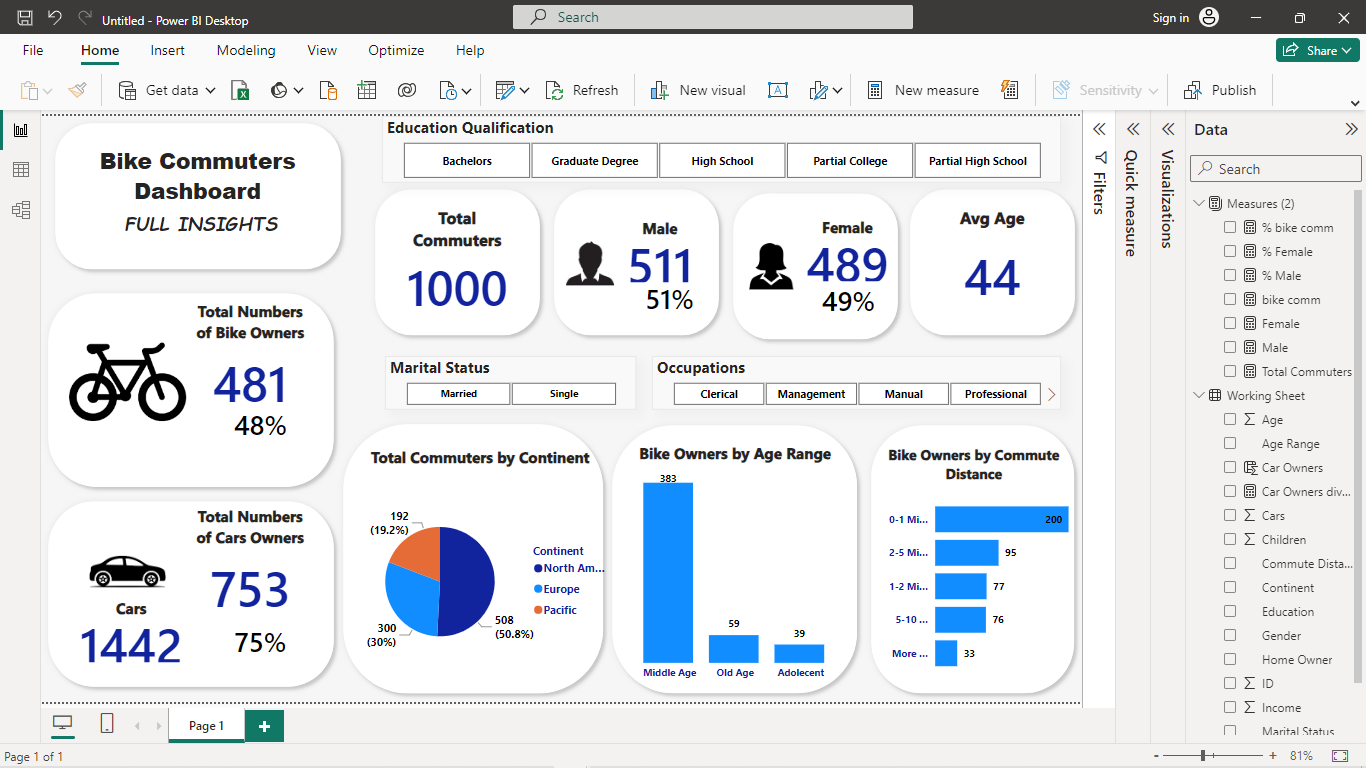

This screenshot's page, from the dashboard's own definition file:
{"tool":"powerbi","page":{"name":"Page 1","canvas":[1280,720],"ordinal":0},"visuals":[{"type":"shape","box":[8.6,0,369,197.4],"z":0},{"type":"shape","box":[401.9,81.5,220.2,197.4],"z":1000},{"type":"card","title":"Total  Commuters","fields":{"Values":["Measures (2).Total Commuters"]},"box":[426.2,110.1,170.2,140.2],"z":2000},{"type":"shape","box":[622.1,81.5,220.2,197.4],"z":3000},{"type":"card","title":"Male","fields":{"Values":["Measures (2).Male"]},"box":[709.4,125.9,103,84.4],"z":4000},{"type":"card","title":"Male","fields":{"Values":["Measures (2).% Male"]},"box":[732.2,181.6,80.1,84.4],"z":5000},{"type":"image","box":[640.7,135.9,68.6,91.5],"z":6000},{"type":"shape","box":[842.4,85.8,220.2,197.4],"z":7000},{"type":"card","title":"Male","fields":{"Values":["Measures (2).% Female"]},"box":[952.5,184.5,80.1,84.4],"z":8000},{"type":"card","title":"Female","fields":{"Values":["Measures (2).Female"]},"box":[935.3,124.4,111.6,84.4],"z":9000},{"type":"image","box":[862.4,151.6,72.9,67.2],"z":10000},{"type":"shape","box":[1059.8,81.5,220.2,197.4],"z":11000},{"type":"card","title":"Avg Age","fields":{"Values":["Avg(Working Sheet.Age)"]},"box":[1084.1,110.1,170.2,140.2],"z":12000},{"type":"shape","box":[0,208.8,369,256],"z":13000},{"type":"shape","box":[0,464.8,369,246],"z":14000},{"type":"image","box":[30,246,154.5,161.6],"z":15000},{"type":"card","title":"Total Numbers of Bike Owners","fields":{"Values":["Measures (2).bike comm"]},"box":[184.5,227.4,145.9,145.9],"z":16000},{"type":"card","title":"Male","fields":{"Values":["Measures (2).% bike comm"]},"box":[224.5,337.5,90.1,84.4],"z":17000},{"type":"image","box":[30,486.3,154.5,148.7],"z":18000},{"type":"card","title":"Total Numbers of Cars Owners","fields":{"Values":["Sum(Working Sheet.Car Owners)"]},"box":[184.5,479.1,145.9,145.9],"z":19000},{"type":"card","title":"Male","fields":{"Values":["Working Sheet.Car Owners divided by Total Commuters"]},"box":[217.4,603.5,104.4,84.4],"z":20000},{"type":"card","title":"Cars","fields":{"Values":["Sum(Working Sheet.Cars)"]},"box":[30,592.1,163,84.4],"z":21000},{"type":"shape","box":[363.3,370.4,337.5,349],"z":22000},{"type":"slicer","title":"Marital Status","fields":{"Values":["Working Sheet.Marital Status"]},"box":[423.3,294.6,308.9,65.8],"z":23000},{"type":"slicer","title":"Education Qualification","fields":{"Values":["Working Sheet.Education"]},"box":[419,0,835.2,81.5],"z":24000},{"type":"pieChart","fields":{"Category":["Working Sheet.Continent"],"Y":["Measures (2).Total Commuters"]},"box":[371.8,407.6,337.5,306.1],"z":25000},{"type":"shape","box":[693.6,371.8,318.9,347.5],"z":25001},{"type":"slicer","title":"Occupations","fields":{"Values":["Working Sheet.Occupation"]},"box":[750.8,294.6,503.4,65.8],"z":25002},{"type":"columnChart","title":"Bike Owners by Age Range","fields":{"Category":["Working Sheet.Age Range"],"Y":["Measures (2).bike comm"]},"box":[703.6,401.9,300.3,300.3],"z":25003},{"type":"shape","box":[1012.6,371.8,267.4,347.5],"z":25004},{"type":"barChart","title":"Bike Owners by Commute Distance","fields":{"Category":["Working Sheet.Commute Distance"],"Y":["Measures (2).bike comm"]},"box":[1025.4,404.7,243.1,294.6],"z":25005},{"type":"textbox","title":"Bike Commuters Dashboard","box":[34.3,35.8,316.1,81.5],"z":25006},{"type":"textbox","title":"FULL INSIGHTS","box":[42.9,117.3,307.5,34.3],"z":25007}]}

Visuals, with their boxes on the page's 1280x720 design canvas (x1, y1, x2, y2). These are canvas units, not pixel positions in the 1366x768 screenshot, which may show the page scaled, cropped or inside an application window:
shape: bbox=(9, 0, 378, 197)
shape: bbox=(402, 82, 622, 279)
"Total  Commuters" card: bbox=(426, 110, 596, 250)
shape: bbox=(622, 82, 842, 279)
"Male" card: bbox=(709, 126, 812, 210)
"Male" card: bbox=(732, 182, 812, 266)
image: bbox=(641, 136, 709, 227)
shape: bbox=(842, 86, 1063, 283)
"Male" card: bbox=(952, 184, 1033, 269)
"Female" card: bbox=(935, 124, 1047, 209)
image: bbox=(862, 152, 935, 219)
shape: bbox=(1060, 82, 1280, 279)
"Avg Age" card: bbox=(1084, 110, 1254, 250)
shape: bbox=(0, 209, 369, 465)
shape: bbox=(0, 465, 369, 711)
image: bbox=(30, 246, 184, 408)
"Total Numbers of Bike Owners" card: bbox=(184, 227, 330, 373)
"Male" card: bbox=(224, 338, 315, 422)
image: bbox=(30, 486, 184, 635)
"Total Numbers of Cars Owners" card: bbox=(184, 479, 330, 625)
"Male" card: bbox=(217, 604, 322, 688)
"Cars" card: bbox=(30, 592, 193, 676)
shape: bbox=(363, 370, 701, 719)
"Marital Status" slicer: bbox=(423, 295, 732, 360)
"Education Qualification" slicer: bbox=(419, 0, 1254, 82)
pieChart - Working Sheet.Continent x Measures (2).Total Commuters: bbox=(372, 408, 709, 714)
shape: bbox=(694, 372, 1012, 719)
"Occupations" slicer: bbox=(751, 295, 1254, 360)
"Bike Owners by Age Range" columnChart: bbox=(704, 402, 1004, 702)
shape: bbox=(1013, 372, 1280, 719)
"Bike Owners by Commute Distance" barChart: bbox=(1025, 405, 1268, 699)
"Bike Commuters Dashboard" textbox: bbox=(34, 36, 350, 117)
"FULL INSIGHTS" textbox: bbox=(43, 117, 350, 152)
